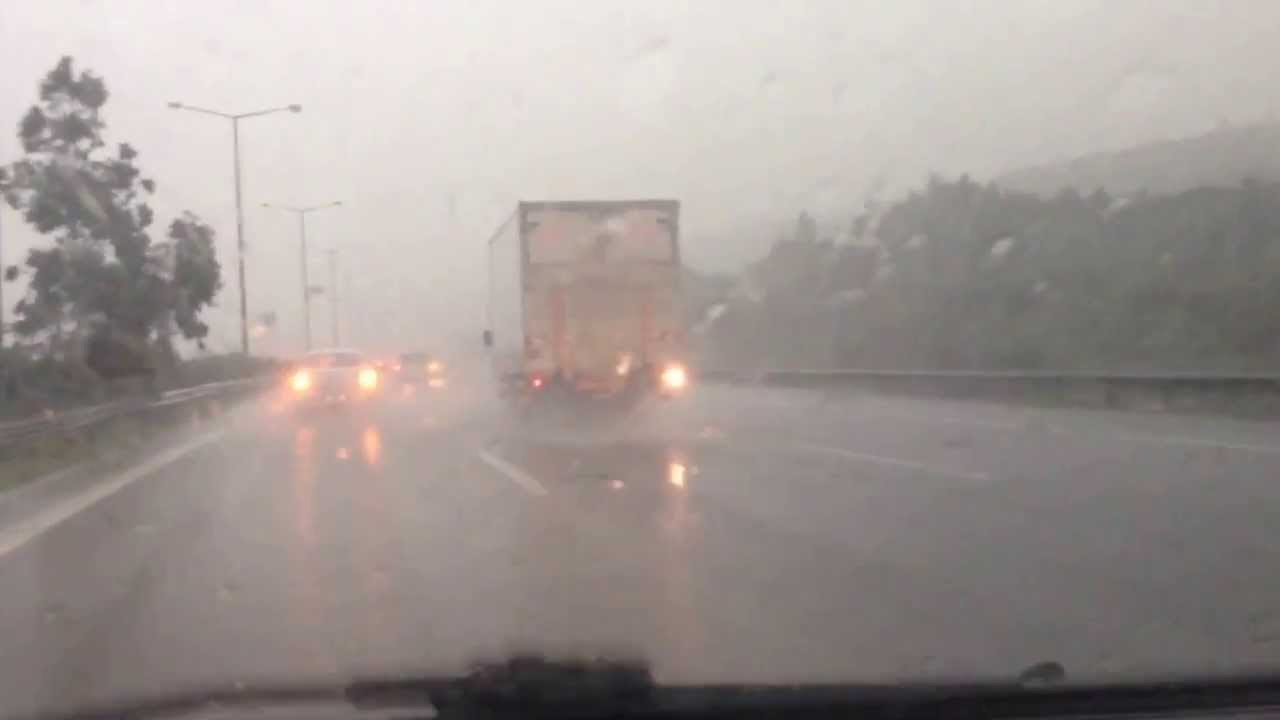car: (284, 341, 383, 408), (388, 346, 441, 383)
truck: (478, 203, 693, 418)
